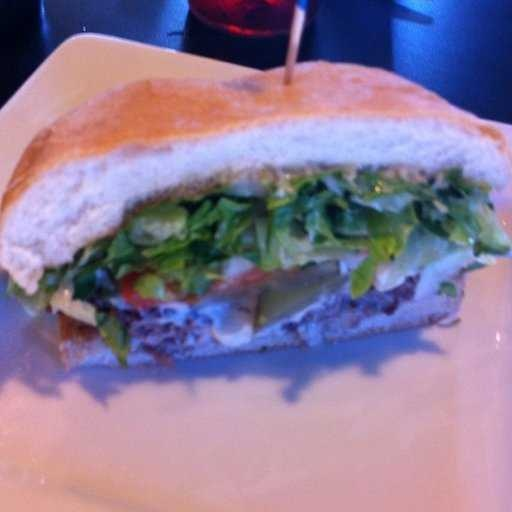hamburger: (12, 76, 503, 371)
